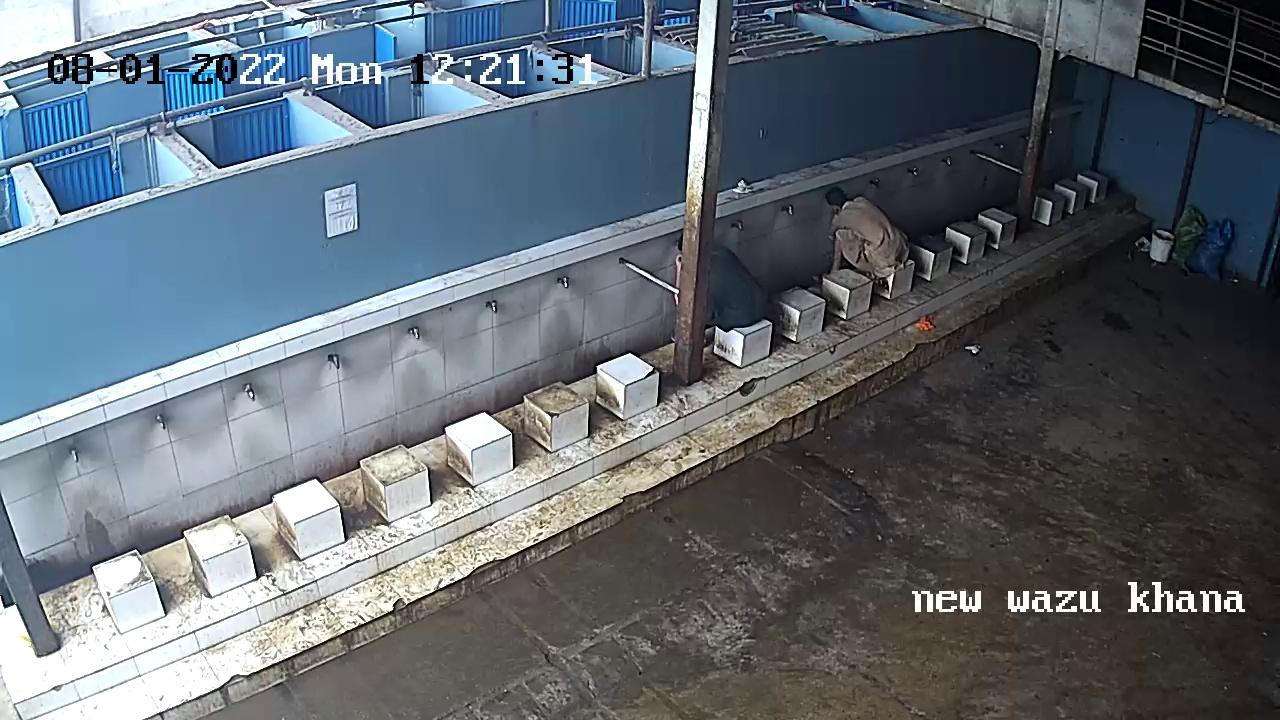person: (831, 182, 910, 273)
